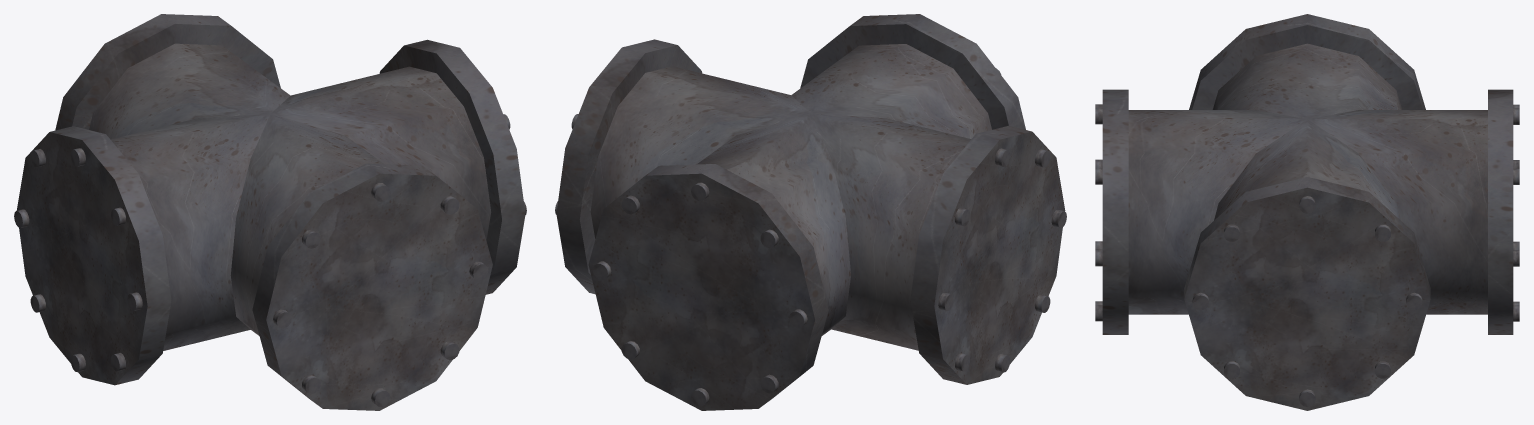
File: Pipe_4way.fbx
3 renders of one model, left to right at view 1: azimuth 30°, elevation 25°; view 2: azimuth 150°, elevation 25°; view 3: azimuth 270°, elevation 25°, orthographic. The views are drawn at different scales.
Parts seen in each view (by area): view 1: Straight Medium9; view 2: Straight Medium9; view 3: Straight Medium9.
Part boxes in pixels (x1,y1,x2,y2): Straight Medium9: [14, 14, 526, 410]; Straight Medium9: [555, 14, 1066, 410]; Straight Medium9: [1095, 14, 1519, 410].
Bounding box in the file's own units: 10.33 × 6 × 10.33.
